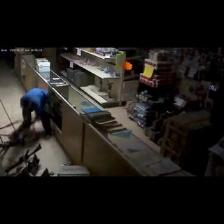person: (21, 89, 51, 135)
